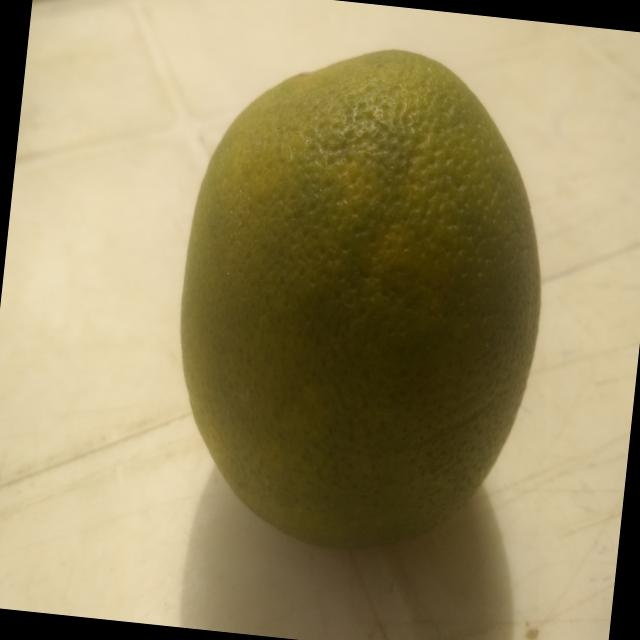agrume: (153, 26, 568, 574)
